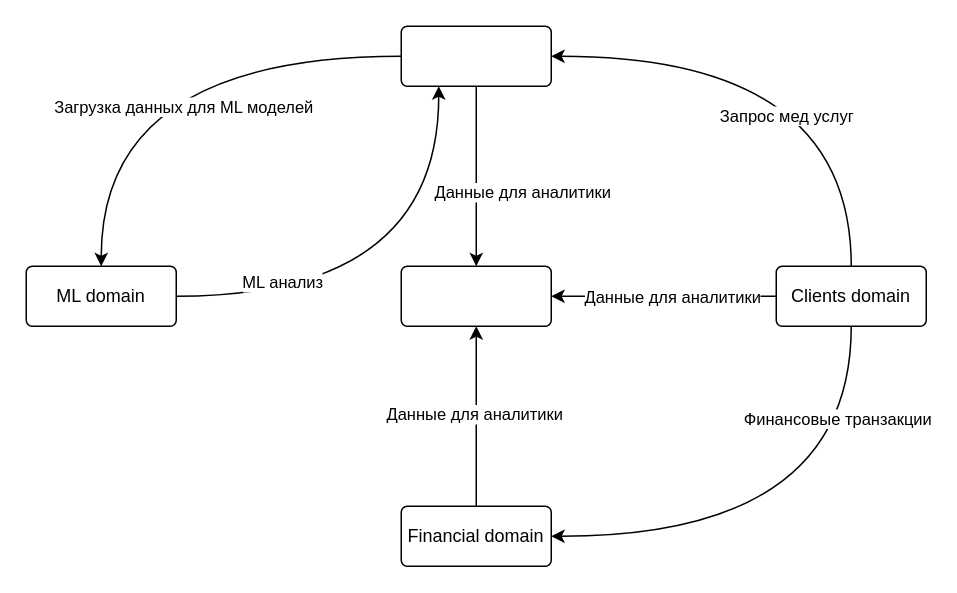
Image size: 957x593. Some labels were removed from this diagram. The shapes that lost their labels are listed below. From the top down, each one's box as (x1, y1, x2, y2) in pixels, then its label:
(400, 25, 551, 86): Medical domain
(400, 265, 551, 326): Analytics domain
